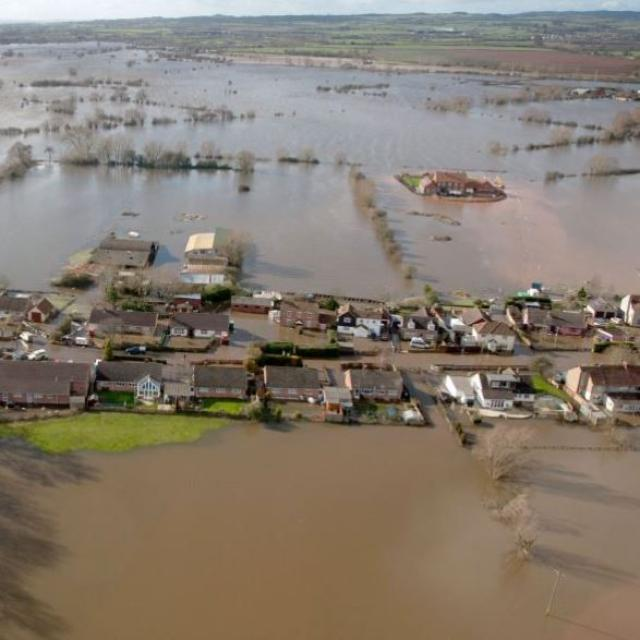flooded_areas: (9, 158, 639, 539)
